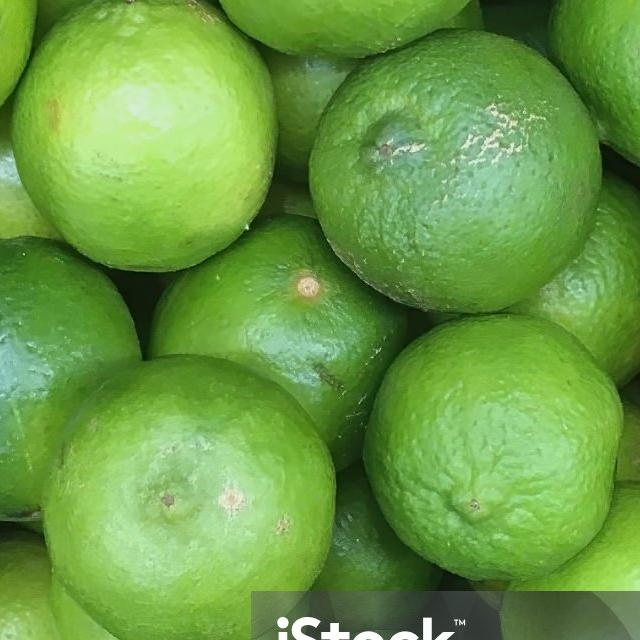lime: (302, 27, 608, 322)
